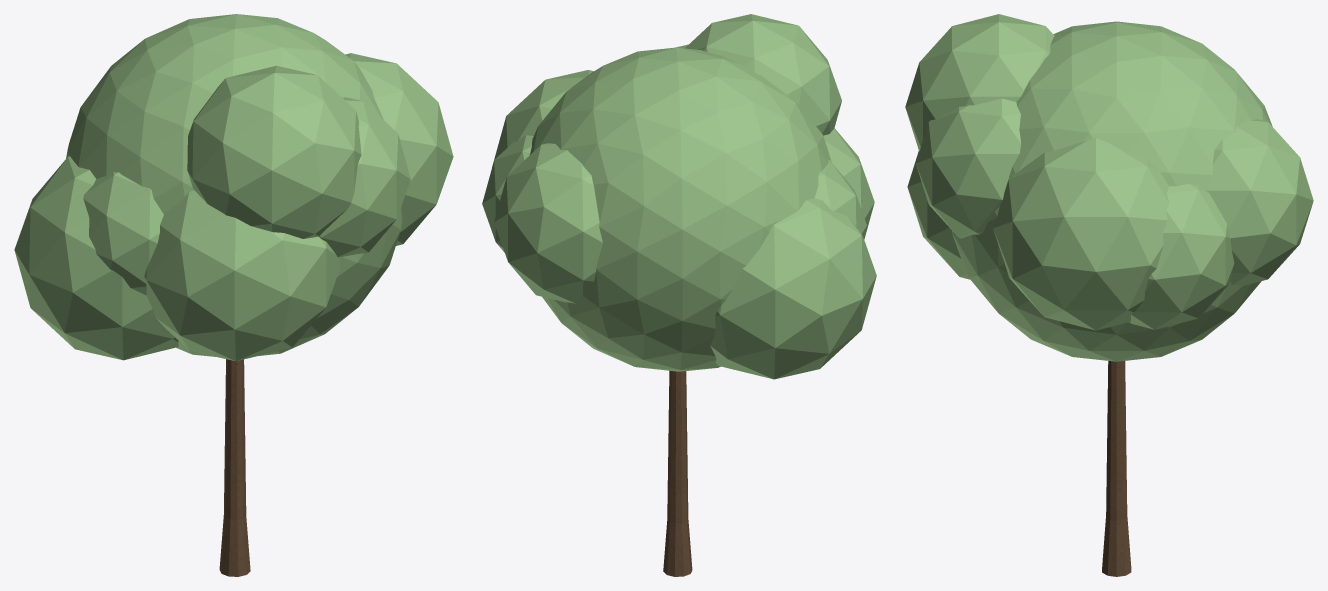
The model's file is tree.glb.
3 views of the same model, side by side, from view 1: azimuth 30°, elevation 25°; view 2: azimuth 150°, elevation 25°; view 3: azimuth 270°, elevation 25° (orthographic). The views are drawn at different scales.
Parts seen in each view (by area): view 1: tree_leaf, tree_bark; view 2: tree_leaf, tree_bark; view 3: tree_leaf, tree_bark.
Boxes of the visible parts, left/top/right/bottom form: tree_leaf: left=14, top=14, right=453, bottom=361; tree_bark: left=219, top=359, right=250, bottom=576; tree_leaf: left=482, top=14, right=876, bottom=379; tree_bark: left=663, top=370, right=692, bottom=576; tree_leaf: left=905, top=14, right=1313, bottom=361; tree_bark: left=1102, top=361, right=1131, bottom=576.
Bounding box in the file's own units: 5.26 × 6.94 × 4.77.
2 materials, 1 textured.
